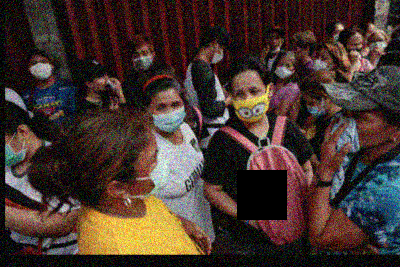mask_weared_incorrect: (93, 74, 112, 93), (268, 33, 282, 52)
with_mask: (132, 144, 173, 196), (339, 106, 386, 150), (234, 83, 270, 124), (152, 97, 186, 132), (6, 135, 28, 166), (303, 95, 326, 120), (30, 56, 53, 80), (133, 48, 154, 71), (313, 52, 333, 73), (275, 59, 293, 79), (347, 36, 363, 54), (370, 36, 385, 52), (213, 48, 225, 64)
